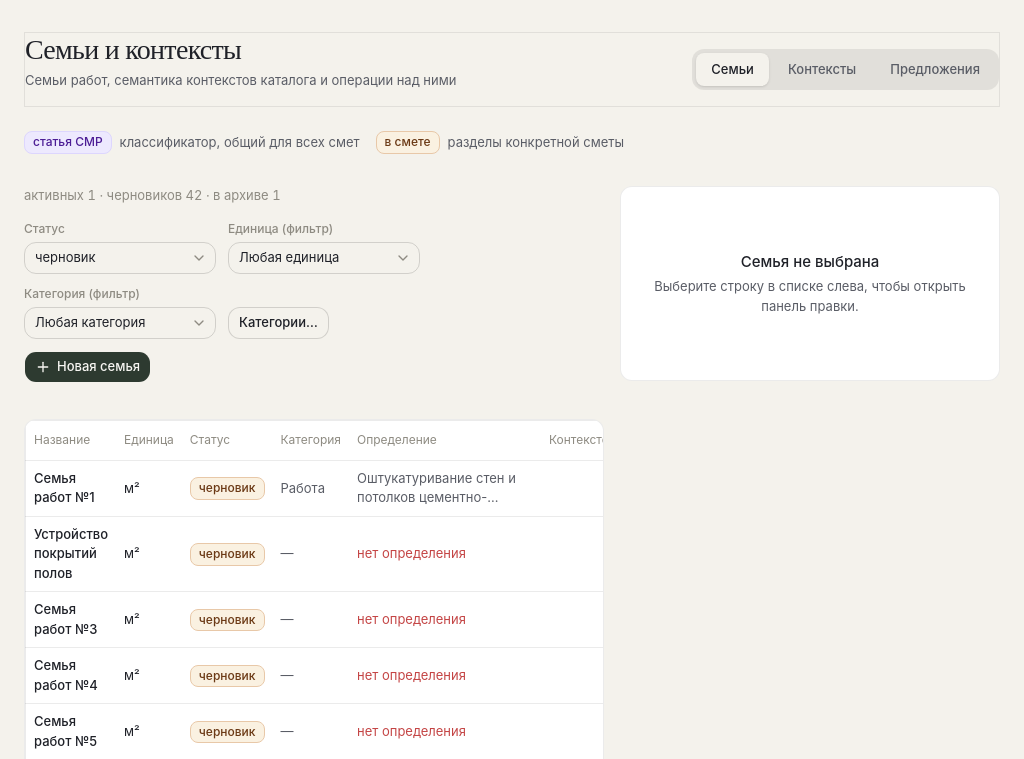
Test case: FamiliesPage › выбор контекста в очереди показывает карточку рядом со списком; активная вкладка остаётся «Контексты»
Click the tab "Контексты": (822, 69) top-left (773, 53), bottom-right (871, 86)
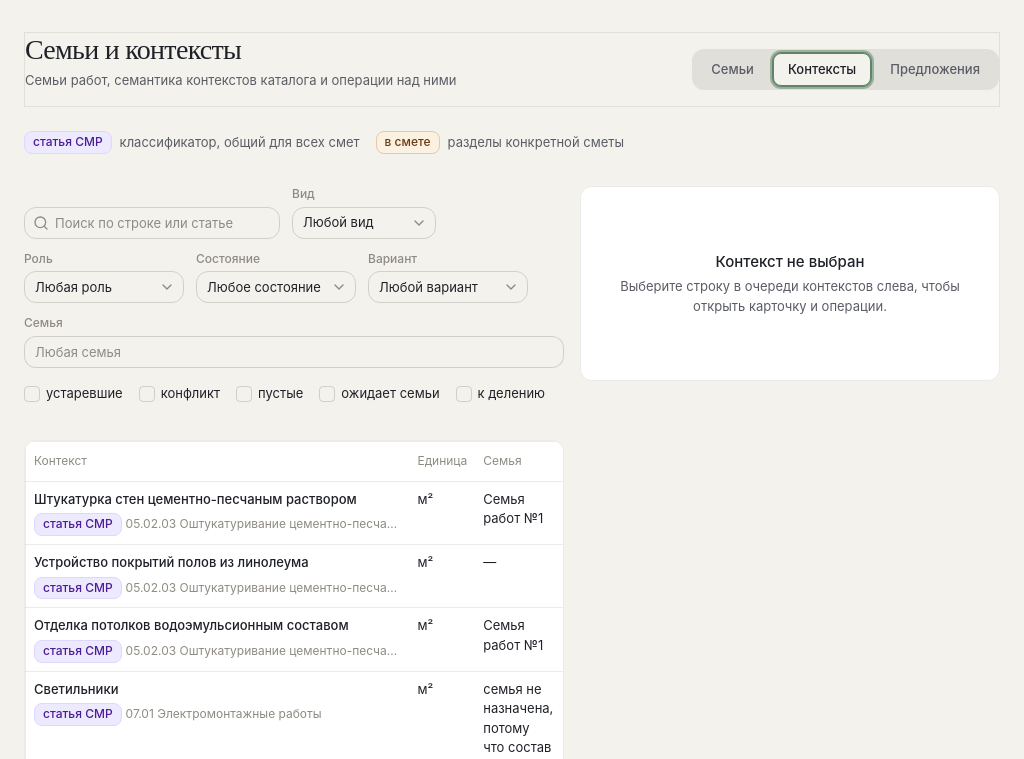
Click the text "Штукатурка стен цементно-песчаным раствором": (195, 500) top-left (34, 490), bottom-right (357, 509)
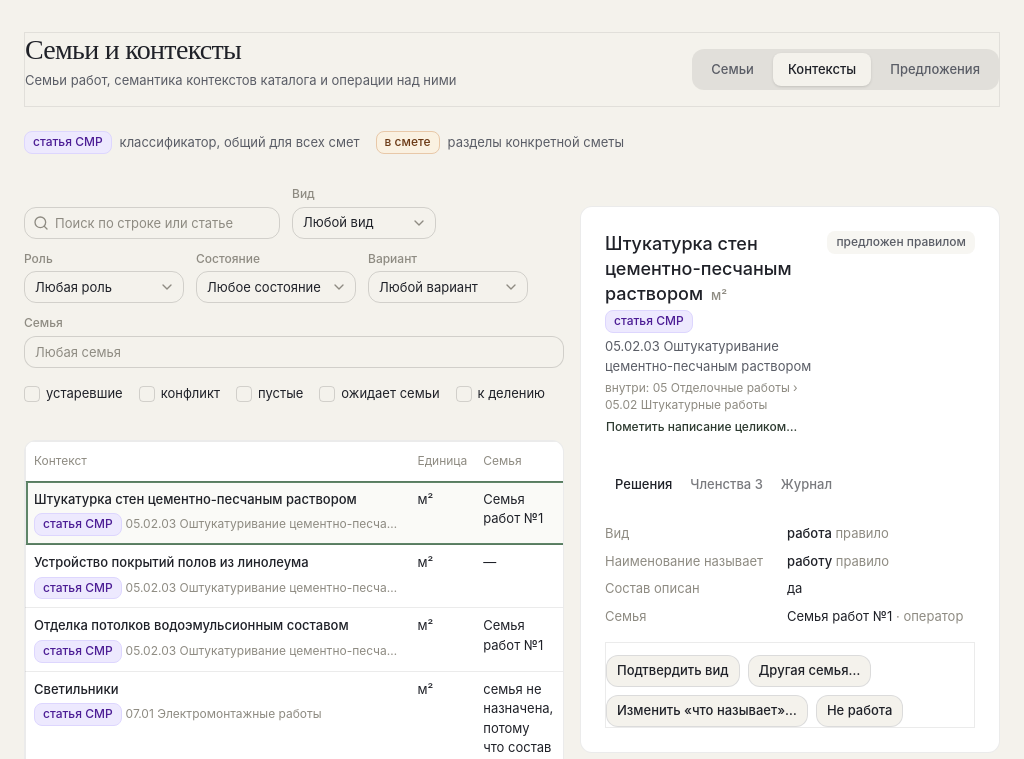
Now the field named "Поиск по написанию каталога" is shown, box top-left (49, 205), bottom-right (279, 241)
Now the tab "Членства 3" is shown, box top-left (683, 472), bottom-right (770, 497)
